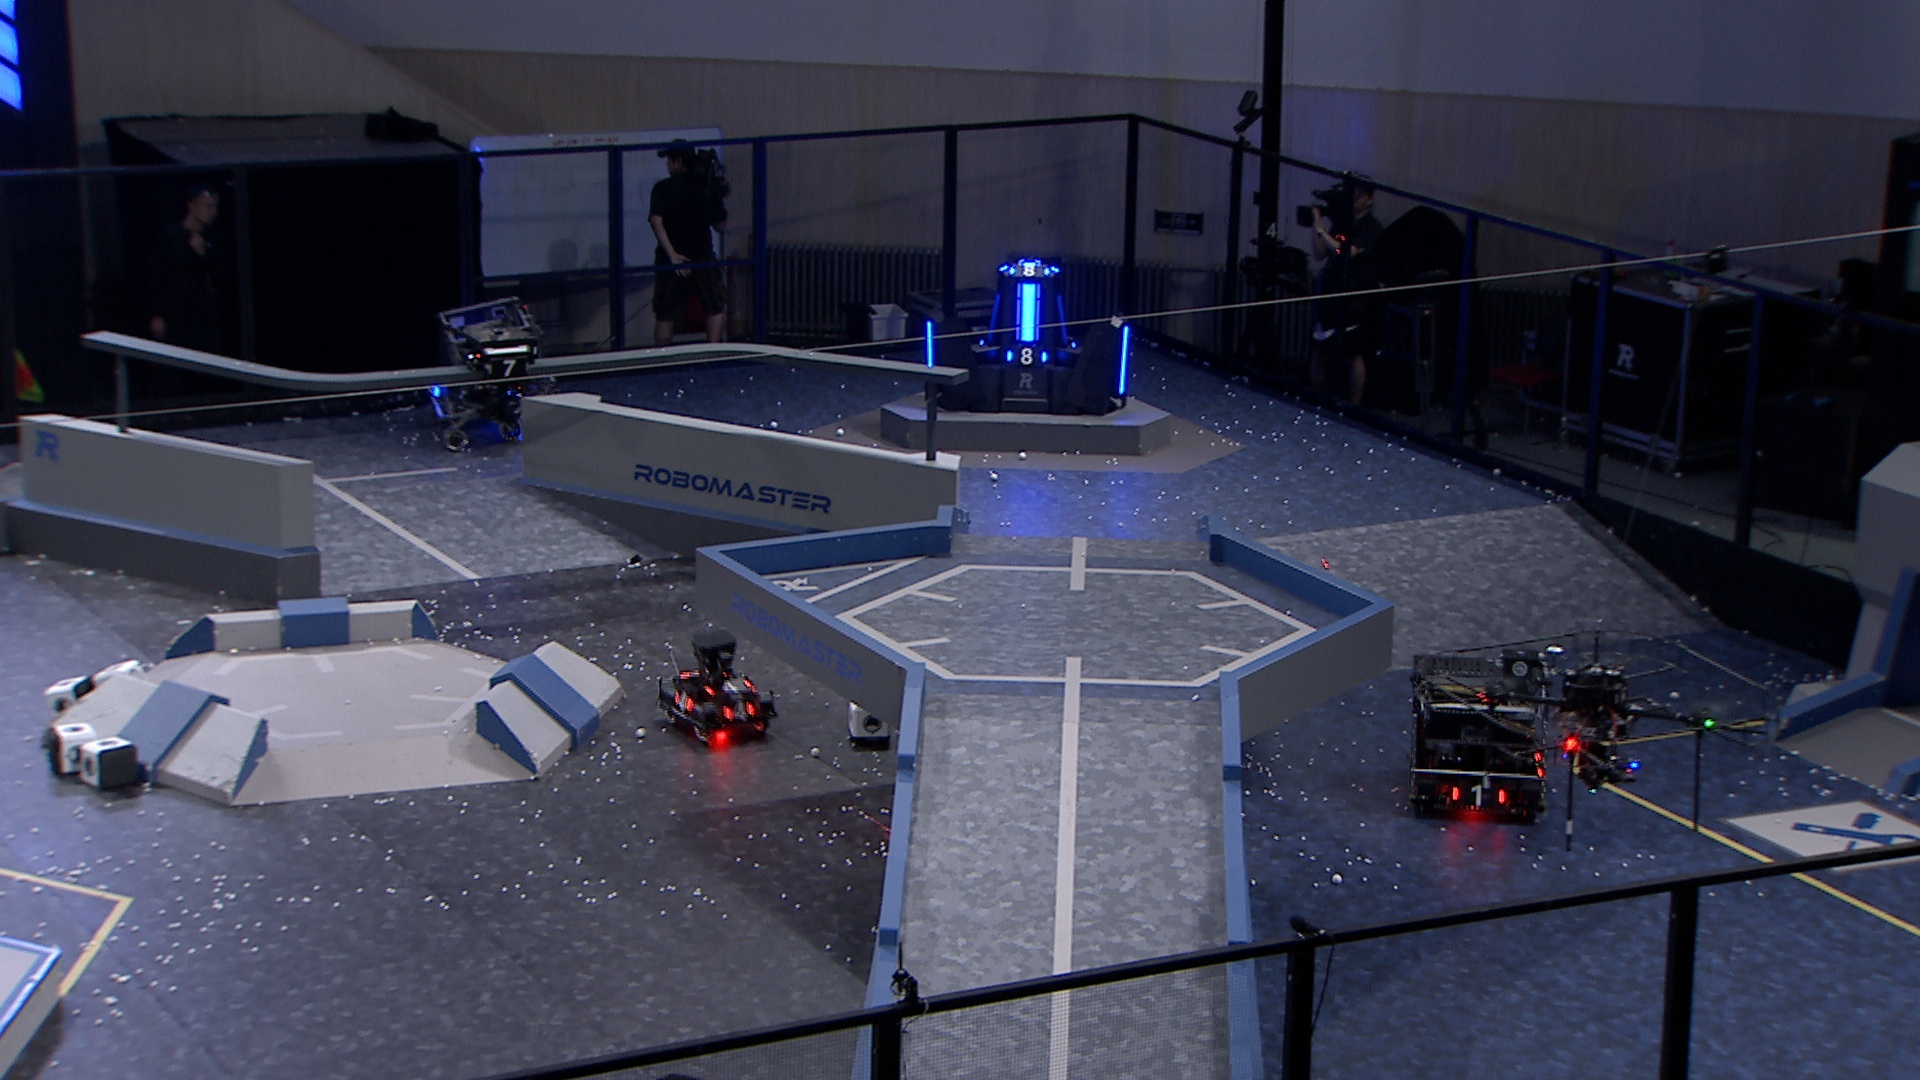armor: (1449, 785, 1509, 811), (1017, 282, 1039, 345), (1116, 323, 1131, 398), (1055, 294, 1076, 349), (986, 290, 1005, 348), (1004, 345, 1051, 367), (484, 357, 529, 378), (703, 678, 756, 695), (1005, 261, 1051, 280), (721, 699, 756, 723), (923, 319, 936, 371), (670, 690, 698, 713)
base: (920, 258, 1134, 419)
car: (1403, 651, 1552, 823), (423, 299, 562, 450), (654, 632, 781, 745)
watcher: (465, 324, 537, 431)
